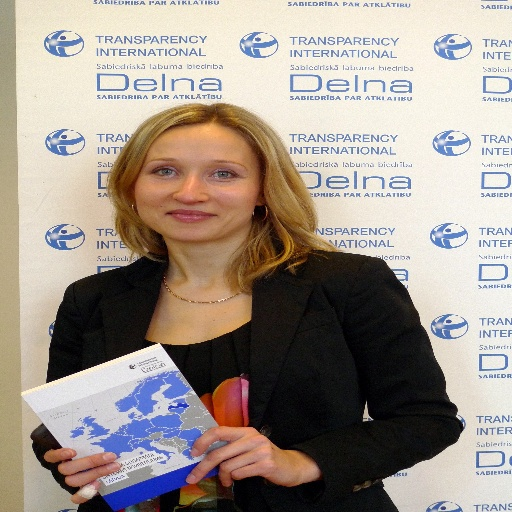hand: (193, 422, 315, 489), (42, 447, 121, 506)
